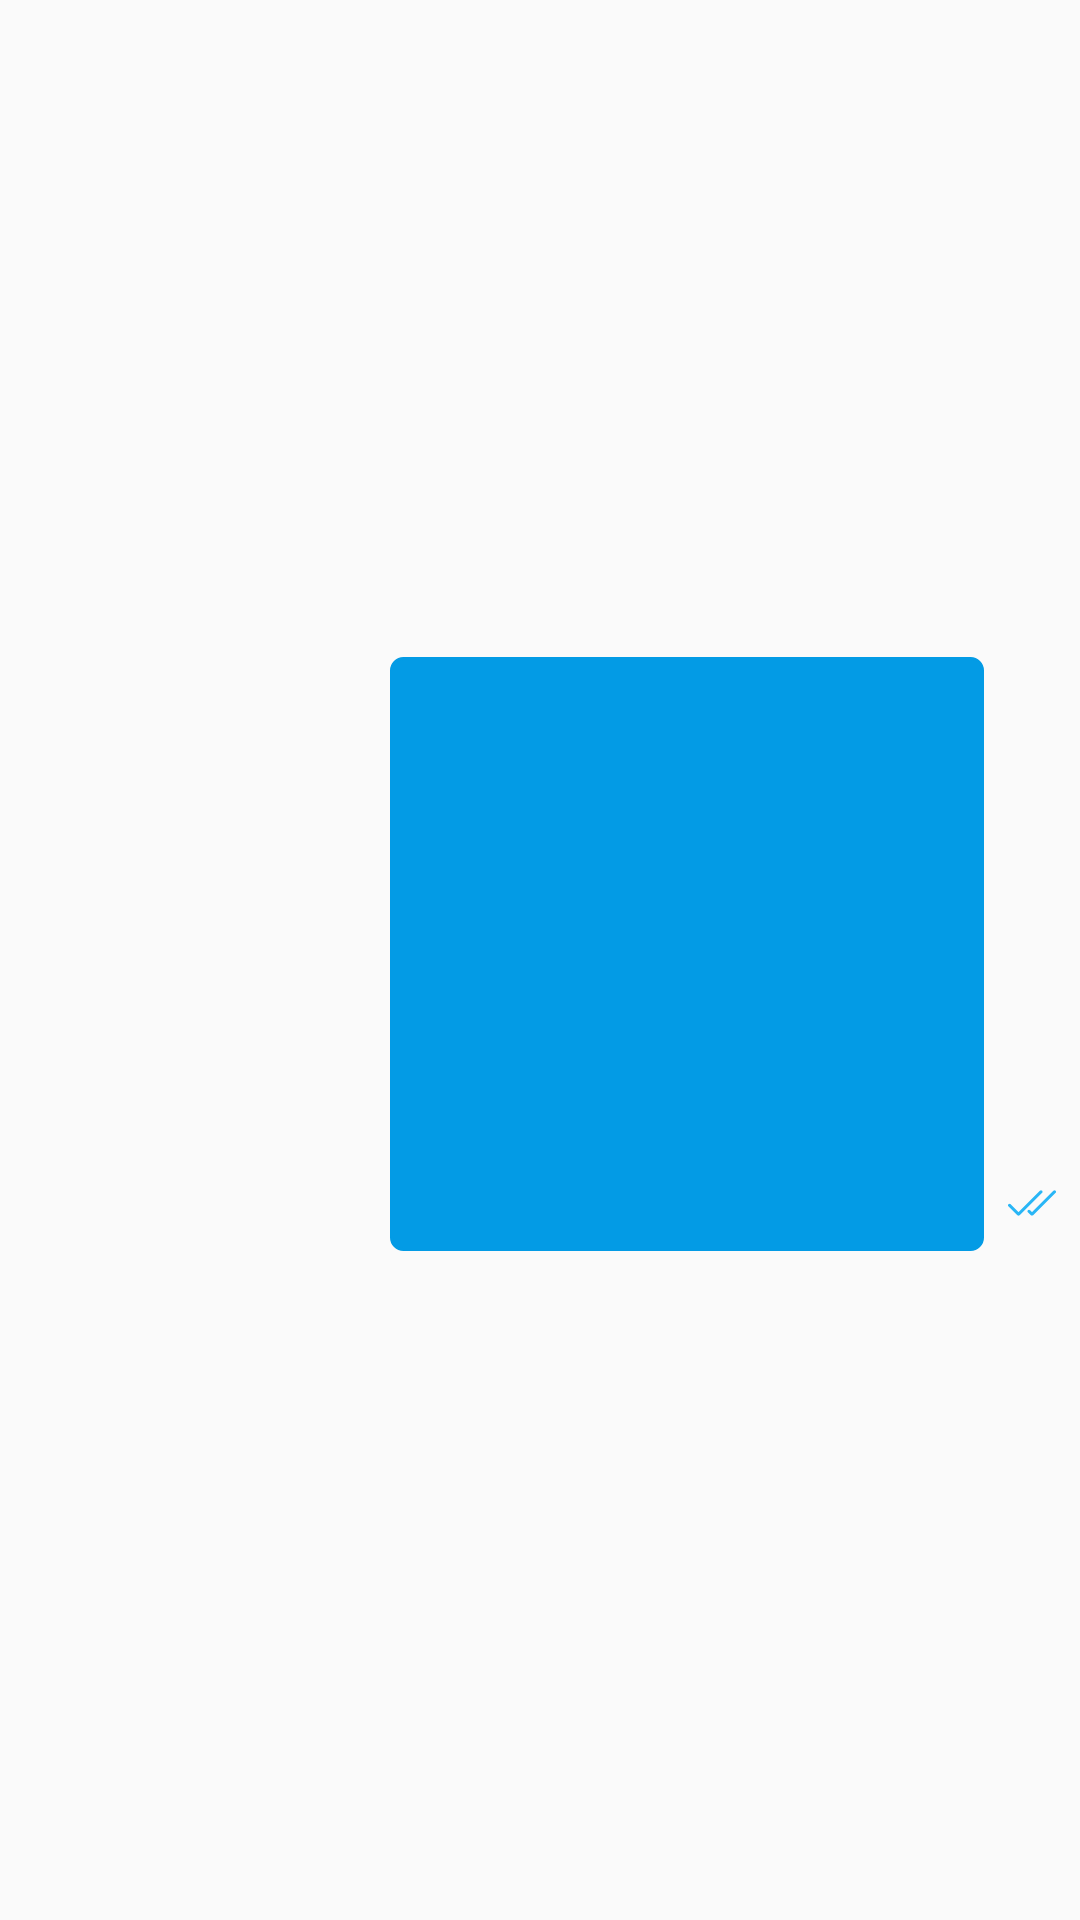

Locate icon controls on the screen. Image size 1080px x 1920px, boxes as (x1, y1, x2, y2).
double check: (1008, 1190, 1056, 1216)
